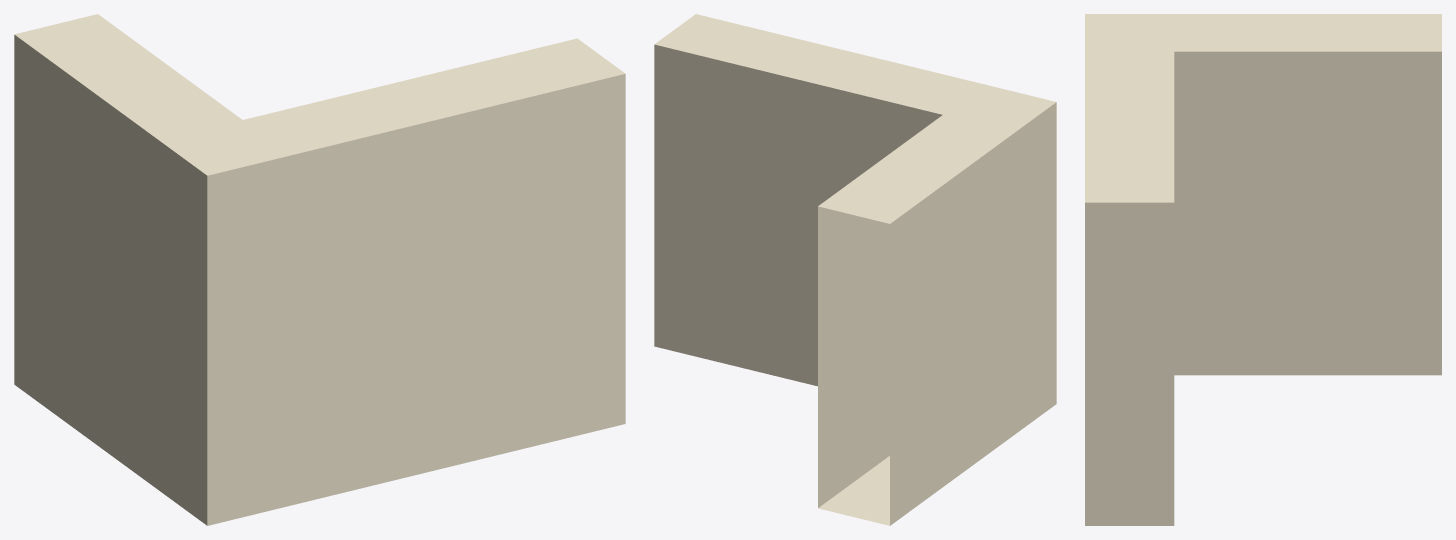
Rendered from original-29.obj.
The picture shows the model from 3 angles, left to right: view 1: azimuth 30°, elevation 25°; view 2: azimuth 150°, elevation 25°; view 3: azimuth 270°, elevation 25°; orthographic projection. The views are drawn at different scales.
Visible parts, largest first — view 1: #ID141; view 2: #ID141; view 3: #ID141.
Part boxes in pixels (x1,y1,x2,y2): #ID141: (14, 14, 625, 525); #ID141: (654, 14, 1056, 525); #ID141: (1085, 14, 1441, 525).
Size of the model in its own units: 0.0136 by 0.0109 by 0.0109.
